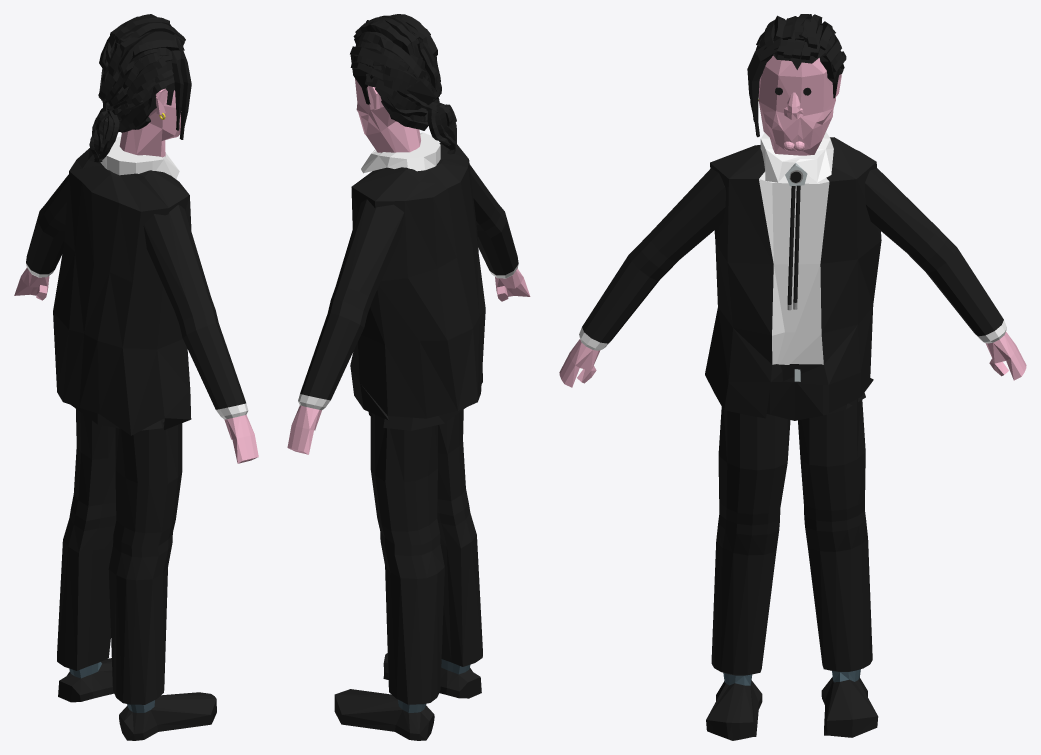
Rendered from biff.obj.
3 renders of one model, left to right at view 1: azimuth 30°, elevation 25°; view 2: azimuth 150°, elevation 25°; view 3: azimuth 270°, elevation 25°, orthographic. The views are drawn at different scales.
Parts seen in each view (by area): view 1: group745186223, group99278640, group188744576, group893585580, group1710677455, group1193905917, group1194465909, group738649036; view 2: group745186223, group188744576, group893585580, group1193905917, group99278640, group1710677455, group1194465909, group738649036; view 3: group745186223, group99278640, group188744576, group893585580, group1710677455, group1193905917, group738649036, group1194465909, group1482756148.
Part boxes in pixels (x1=…): group745186223: x1=53, y1=148, x2=191, y2=435; group99278640: x1=108, y1=419, x2=216, y2=740; group188744576: x1=57, y1=408, x2=116, y2=702; group893585580: x1=89, y1=14, x2=191, y2=162; group1710677455: x1=143, y1=204, x2=258, y2=463; group1193905917: x1=14, y1=175, x2=68, y2=300; group1194465909: x1=100, y1=136, x2=179, y2=178; group738649036: x1=71, y1=405, x2=164, y2=430; group745186223: x1=350, y1=143, x2=485, y2=419; group188744576: x1=334, y1=413, x2=444, y2=740; group893585580: x1=350, y1=14, x2=456, y2=154; group1193905917: x1=287, y1=199, x2=404, y2=454; group99278640: x1=383, y1=409, x2=482, y2=698; group1710677455: x1=469, y1=164, x2=530, y2=301; group1194465909: x1=361, y1=132, x2=440, y2=173; group738649036: x1=368, y1=407, x2=466, y2=430; group745186223: x1=705, y1=137, x2=881, y2=418; group99278640: x1=706, y1=407, x2=790, y2=740; group188744576: x1=798, y1=398, x2=878, y2=737; group893585580: x1=747, y1=14, x2=846, y2=155; group1710677455: x1=559, y1=168, x2=725, y2=387; group1193905917: x1=865, y1=168, x2=1026, y2=380; group738649036: x1=766, y1=381, x2=865, y2=420; group1194465909: x1=760, y1=132, x2=833, y2=182; group1482756148: x1=785, y1=163, x2=807, y2=310.
Size of the model in its own units: 0.3529 by 1.91 by 1.14.
